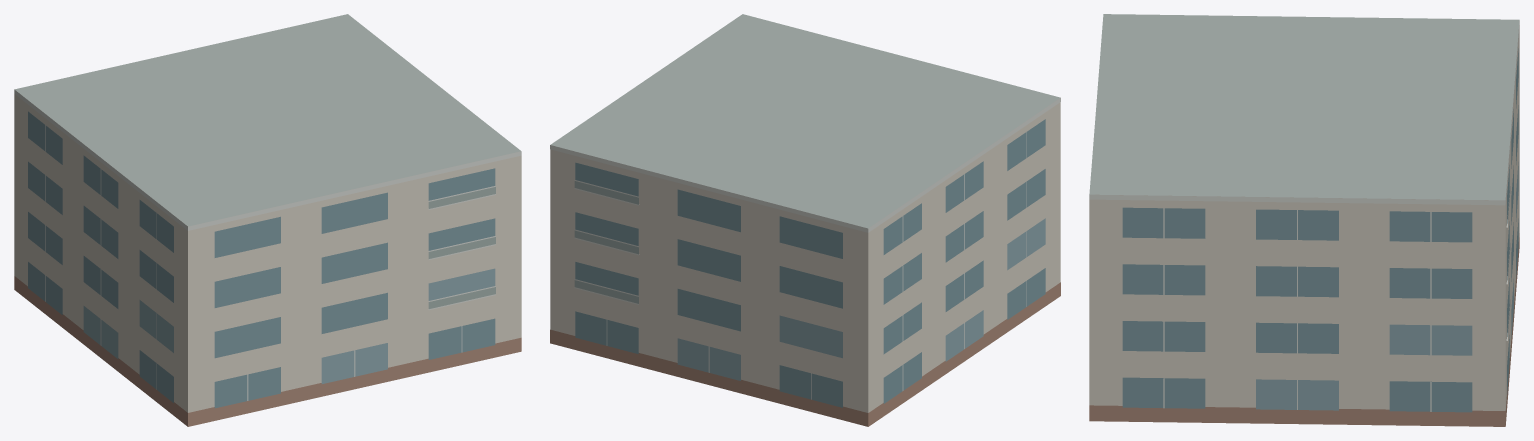
The model's file is survey-upis-33005314.glb.
3 renders of one model, left to right at view 1: azimuth 30°, elevation 25°; view 2: azimuth 150°, elevation 25°; view 3: azimuth 270°, elevation 25°, orthographic. The views are drawn at different scales.
Parts seen in each view (by area): view 1: survey-upis-33005314.tmp; view 2: survey-upis-33005314.tmp; view 3: survey-upis-33005314.tmp.
Part boxes in pixels (x1,y1,x2,y2): survey-upis-33005314.tmp: (14,14,521,426); survey-upis-33005314.tmp: (550,14,1060,426); survey-upis-33005314.tmp: (1089,14,1519,426).
Size of the model in its own units: 19.77 by 11.2 by 19.29.
